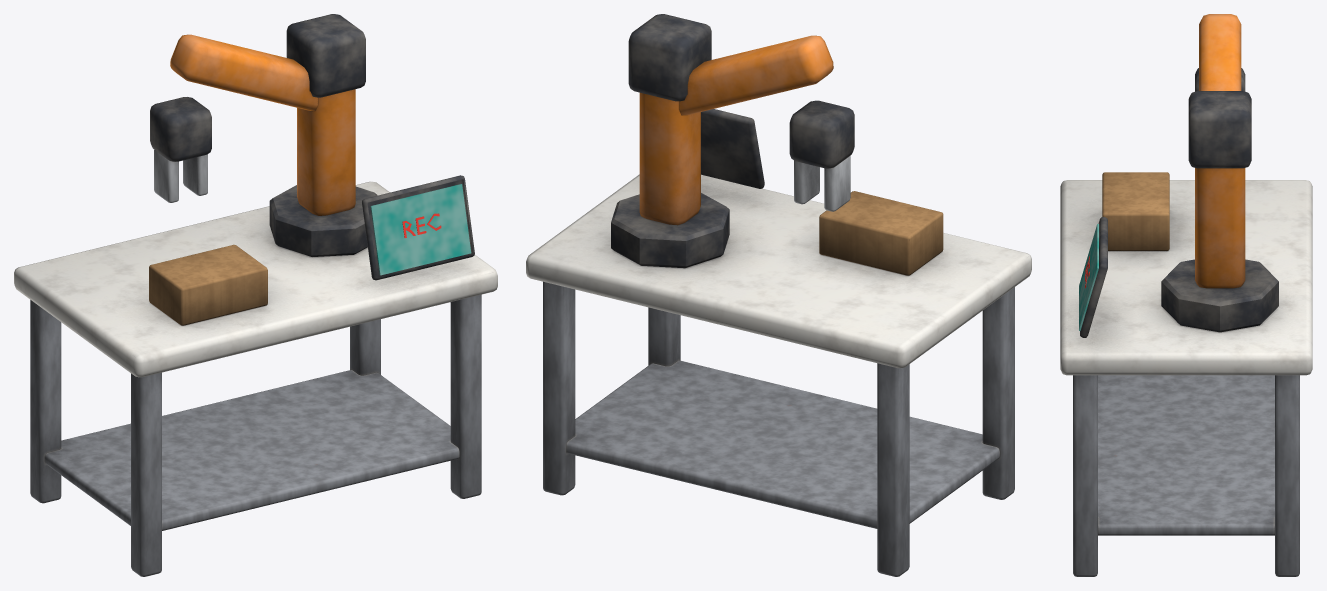
Rendered from arm_bench.fbx.
3 renders of one model, left to right at view 1: azimuth 30°, elevation 25°; view 2: azimuth 150°, elevation 25°; view 3: azimuth 270°, elevation 25°, orthographic. The views are drawn at different scales.
Parts seen in each view (by area): view 1: Body, Arm; view 2: Body, Arm; view 3: Body, Arm.
Part boxes in pixels (x1,y1,x2,y2): Body: (14, 175, 497, 576); Arm: (150, 14, 365, 215); Body: (526, 109, 1031, 576); Arm: (628, 14, 854, 225); Body: (1060, 172, 1312, 576); Arm: (1188, 14, 1251, 288).
Size of the model in its own units: 5 by 5.99 by 3.
1 material, 1 textured.
